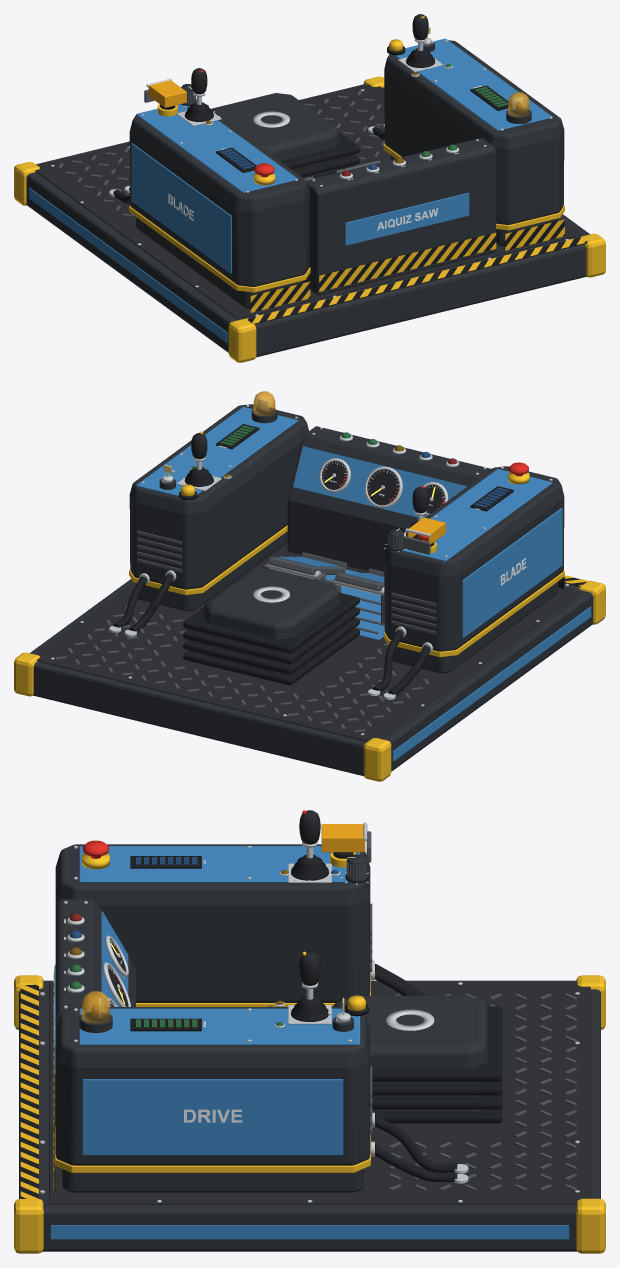
Rendered from godot_console_v3.glb.
The picture shows the model from 3 angles, top to bottom: view 1: azimuth 30°, elevation 25°; view 2: azimuth 150°, elevation 25°; view 3: azimuth 270°, elevation 25°; orthographic projection. The views are drawn at different scales.
Visible parts, largest first — view 1: ConsoleV3_V3_ShellGraphite, ConsoleV3_V3_PanelBlue, ConsoleV3_V3_DeckMat, ConsoleV3_V3_TrimYellow, ConsoleV3_V3_StripeBlack, ConsoleV3_V3_Rubber, ConsoleV3_V3_DarkSteel, ConsoleV3_V3_Steel, OP_Guard_V3_GuardAmber, ConsoleV3_V3_Ink, OP_BeaconDome_V3_BeaconLens; view 2: ConsoleV3_V3_ShellGraphite, ConsoleV3_V3_DeckMat, ConsoleV3_V3_PanelBlue, ConsoleV3_V3_Rubber, ConsoleV3_V3_DarkSteel, ConsoleV3_V3_TrimYellow, ConsoleV3_V3_Steel, ConsoleV3_V3_StripeBlack, OP_Pedal_L_V3_DarkSteel, OP_Gauge_RPM_V3_GaugeFace, OP_Guard_V3_GuardAmber, OP_Gauge_Speed_V3_GaugeFace (+1 smaller); view 3: ConsoleV3_V3_ShellGraphite, ConsoleV3_V3_PanelBlue, ConsoleV3_V3_DeckMat, ConsoleV3_V3_TrimYellow, ConsoleV3_V3_Rubber, ConsoleV3_V3_DarkSteel, ConsoleV3_V3_StripeBlack, ConsoleV3_V3_Steel, OP_Guard_V3_GuardAmber, OP_BeaconDome_V3_BeaconLens, OP_Lever_R_V3_Rubber, OP_Lever_L_V3_Rubber (+3 smaller).
Boxes of the visible parts, x1=… form: ConsoleV3_V3_ShellGraphite: x1=26, y1=40, x2=589, y2=357; ConsoleV3_V3_PanelBlue: x1=28, y1=38, x2=552, y2=342; ConsoleV3_V3_DeckMat: x1=35, y1=84, x2=581, y2=319; ConsoleV3_V3_TrimYellow: x1=14, y1=76, x2=605, y2=362; ConsoleV3_V3_StripeBlack: x1=160, y1=46, x2=587, y2=324; ConsoleV3_V3_Rubber: x1=113, y1=126, x2=384, y2=203; ConsoleV3_V3_DarkSteel: x1=58, y1=89, x2=384, y2=216; ConsoleV3_V3_Steel: x1=51, y1=37, x2=568, y2=316; OP_Guard_V3_GuardAmber: x1=148, y1=80, x2=186, y2=107; ConsoleV3_V3_Ink: x1=168, y1=59, x2=481, y2=230; OP_BeaconDome_V3_BeaconLens: x1=508, y1=92, x2=529, y2=116; ConsoleV3_V3_ShellGraphite: x1=30, y1=404, x2=593, y2=776; ConsoleV3_V3_DeckMat: x1=36, y1=543, x2=581, y2=741; ConsoleV3_V3_PanelBlue: x1=136, y1=407, x2=591, y2=761; ConsoleV3_V3_Rubber: x1=113, y1=573, x2=430, y2=695; ConsoleV3_V3_DarkSteel: x1=55, y1=530, x2=436, y2=732; ConsoleV3_V3_TrimYellow: x1=14, y1=472, x2=605, y2=781; ConsoleV3_V3_Steel: x1=51, y1=404, x2=568, y2=735; ConsoleV3_V3_StripeBlack: x1=179, y1=424, x2=586, y2=588; OP_Pedal_L_V3_DarkSteel: x1=268, y1=552, x2=347, y2=574; OP_Gauge_RPM_V3_GaugeFace: x1=367, y1=469, x2=399, y2=505; OP_Guard_V3_GuardAmber: x1=407, y1=517, x2=445, y2=544; OP_Gauge_Speed_V3_GaugeFace: x1=322, y1=461, x2=347, y2=489; ConsoleV3_V3_ShellGraphite: x1=19, y1=844, x2=600, y2=1251; ConsoleV3_V3_PanelBlue: x1=50, y1=846, x2=569, y2=1239; ConsoleV3_V3_DeckMat: x1=49, y1=983, x2=590, y2=1204; ConsoleV3_V3_TrimYellow: x1=14, y1=852, x2=605, y2=1253; ConsoleV3_V3_Rubber: x1=331, y1=963, x2=502, y2=1181; ConsoleV3_V3_DarkSteel: x1=366, y1=831, x2=576, y2=1190; ConsoleV3_V3_StripeBlack: x1=20, y1=852, x2=368, y2=1198; ConsoleV3_V3_Steel: x1=40, y1=846, x2=579, y2=1202; OP_Guard_V3_GuardAmber: x1=321, y1=824, x2=365, y2=852; OP_BeaconDome_V3_BeaconLens: x1=82, y1=991, x2=109, y2=1023; OP_Lever_R_V3_Rubber: x1=291, y1=854, x2=328, y2=880; OP_Lever_L_V3_Rubber: x1=291, y1=996, x2=328, y2=1021.
Bounding box in the file's own units: 1.67 × 0.8464 × 1.77.
